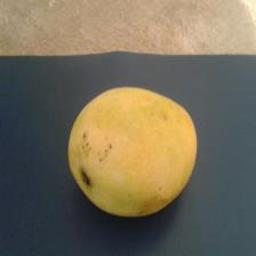Mango Fresh: (61, 82, 205, 226)
